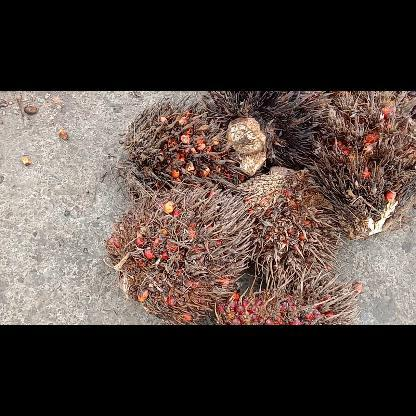Terlalu masak: (106, 184, 254, 324), (311, 91, 413, 239), (234, 166, 350, 280), (116, 96, 244, 198), (202, 90, 330, 176), (215, 264, 359, 324)
